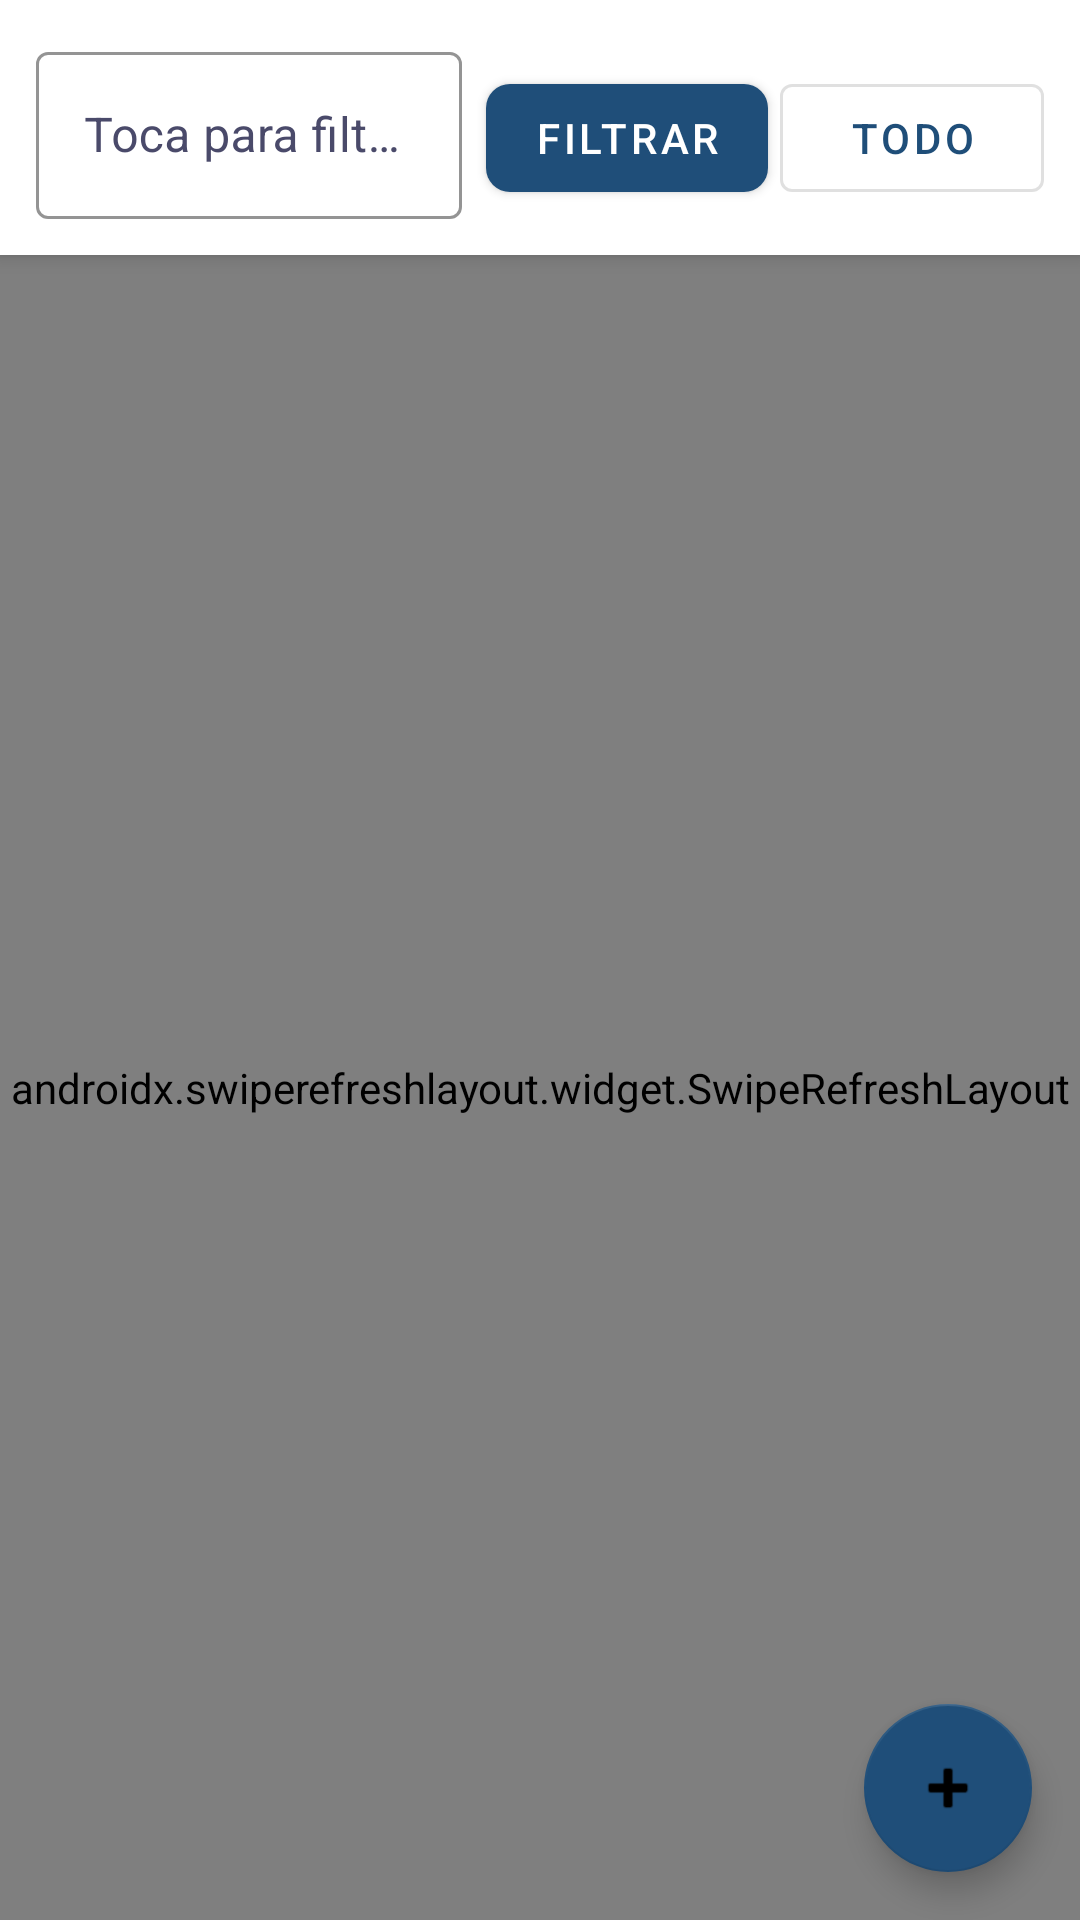

Locate icon controls on the screen. Image size 1080w x 1920h, boxes as BBox(x1, y1, x2, y2).
Nueva reserva: BBox(864, 1704, 1032, 1872)
